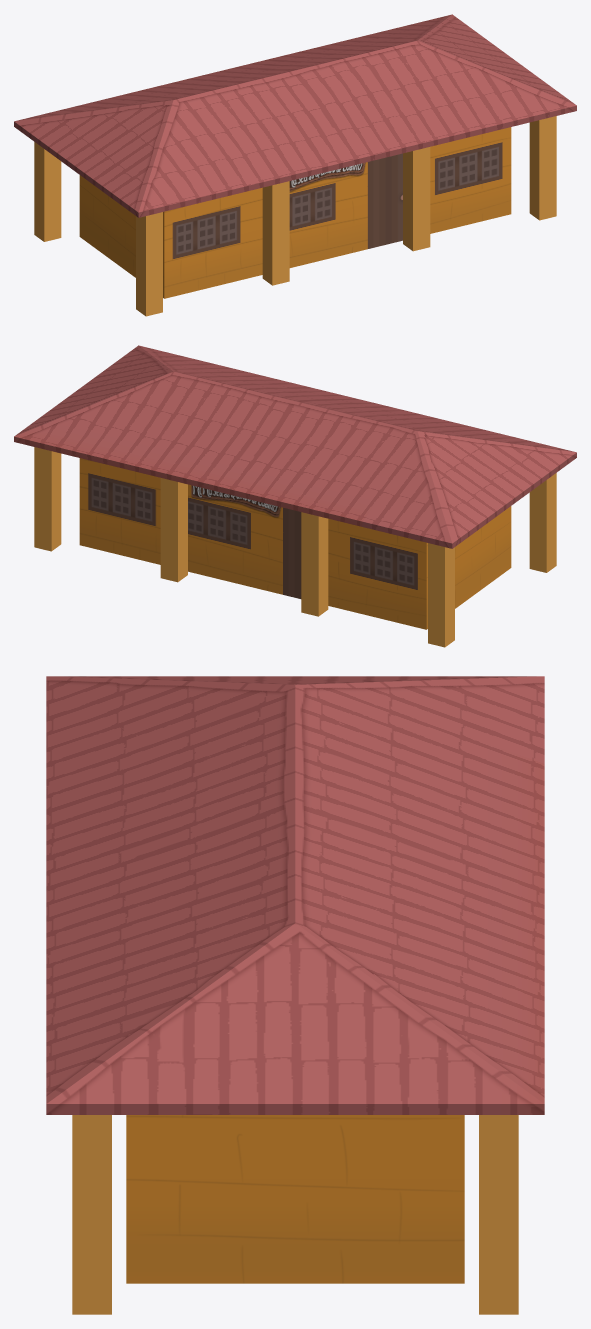
File: Museu_Queijo.fbx
3 renders of one model, top to bottom at view 1: azimuth 30°, elevation 25°; view 2: azimuth 150°, elevation 25°; view 3: azimuth 270°, elevation 25°, orthographic. The views are drawn at different scales.
Visible parts, largest first — view 1: Museu_Queijo; view 2: Museu_Queijo; view 3: Museu_Queijo.
Part boxes in pixels (left/top/right/bottom): Museu_Queijo: left=14, top=14, right=576, bottom=316; Museu_Queijo: left=14, top=345, right=576, bottom=647; Museu_Queijo: left=46, top=676, right=544, bottom=1314.
Size of the model in its own units: 1187 by 401 by 584.
